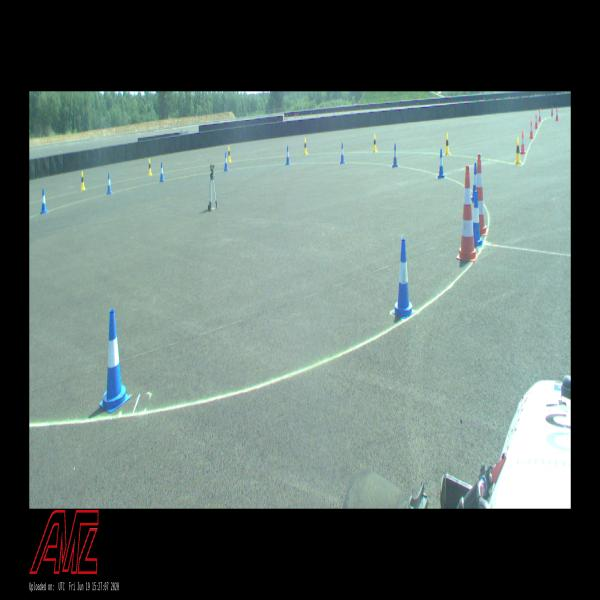blue_cone: (100, 308, 130, 413), (392, 238, 416, 319), (472, 191, 482, 247), (471, 162, 477, 203), (40, 189, 48, 214), (438, 149, 444, 178), (392, 144, 398, 168), (106, 173, 112, 194), (340, 143, 345, 164), (286, 145, 290, 165), (160, 162, 164, 182), (224, 152, 228, 171)
large_orange_cone: (456, 165, 479, 262), (476, 155, 486, 236)
orange_cone: (520, 131, 526, 154), (529, 121, 534, 138), (535, 113, 538, 128), (538, 110, 542, 121), (556, 108, 558, 120)
unknown_cone: (551, 107, 553, 117)
yellow_cone: (515, 138, 521, 165), (444, 133, 450, 155), (80, 171, 86, 190), (373, 134, 377, 152), (148, 158, 152, 176), (304, 138, 308, 154), (228, 146, 232, 162)
